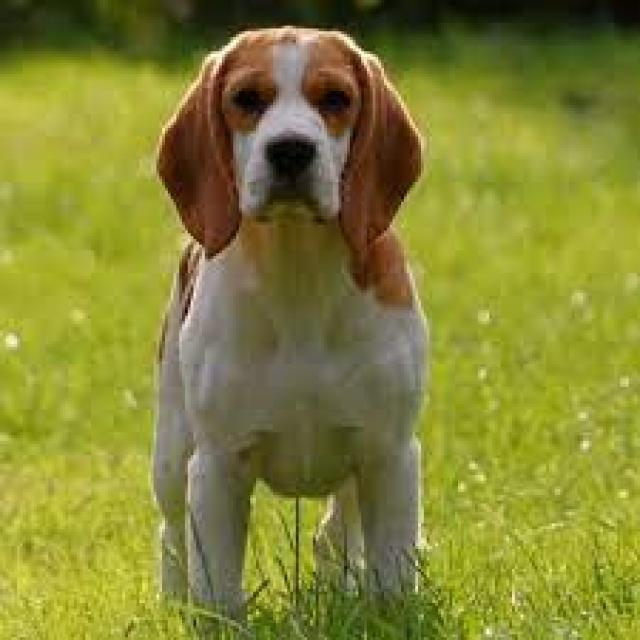Dog: (148, 22, 431, 626)
